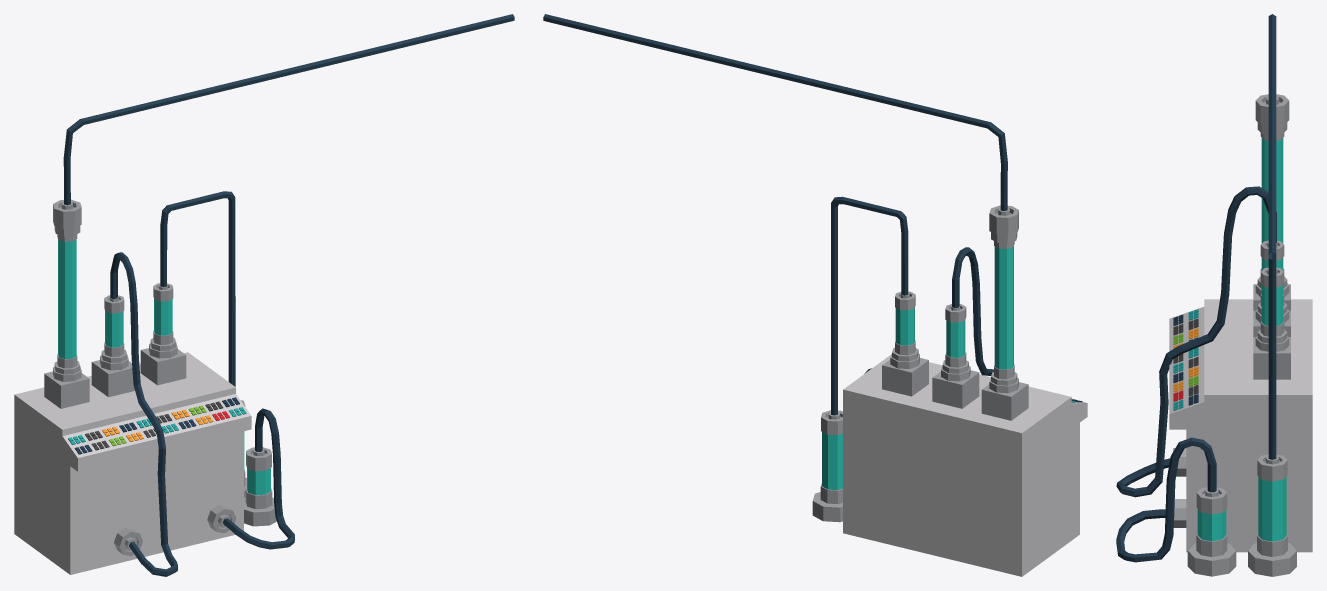
File: Machine1.fbx
3 views of the same model, side by side, from view 1: azimuth 30°, elevation 25°; view 2: azimuth 150°, elevation 25°; view 3: azimuth 270°, elevation 25° (orthographic). The views are drawn at different scales.
Parts seen in each view (by area): view 1: Cube.002_105, BezierCurve_101, BezierCurve.003_104, BezierCurve.001_102, Cylinder_109, BezierCurve.002_103, Cube.005_108, Cube.003_106, Cube.004_107, Cylinder.007_116, Cylinder.012_120, Cylinder.016_124; view 2: Cube.002_105, BezierCurve_101, BezierCurve.001_102, Cylinder_109, BezierCurve.003_104, Cube.003_106, Cube.004_107, Cube.005_108, Cylinder.018_126, Cylinder.007_116, Cylinder.016_124, Cylinder.012_120; view 3: Cube.002_105, BezierCurve.003_104, BezierCurve.002_103, BezierCurve_101, BezierCurve.001_102, Cylinder.018_126, Cylinder_109, Cylinder.004_113, Cylinder.020_128, Cube.005_108, Cylinder.022_130, Cylinder.007_116 (+8 smaller).
Part boxes in pixels (x1,y1,x2,y2): Cube.002_105: [14, 352, 251, 574]; BezierCurve_101: [63, 14, 514, 205]; BezierCurve.003_104: [110, 252, 177, 576]; BezierCurve.001_102: [160, 191, 235, 386]; Cylinder_109: [58, 239, 76, 358]; BezierCurve.002_103: [222, 408, 294, 549]; Cube.005_108: [140, 348, 186, 385]; Cube.003_106: [44, 371, 89, 408]; Cube.004_107: [91, 360, 134, 397]; Cylinder.007_116: [53, 199, 81, 228]; Cylinder.012_120: [105, 311, 123, 347]; Cylinder.016_124: [154, 299, 172, 335]; Cube.002_105: [843, 354, 1087, 576]; BezierCurve_101: [543, 14, 1007, 210]; BezierCurve.001_102: [831, 196, 908, 415]; Cylinder_109: [994, 246, 1013, 369]; BezierCurve.003_104: [952, 247, 993, 375]; Cube.003_106: [981, 382, 1028, 420]; Cube.004_107: [932, 370, 979, 408]; Cube.005_108: [882, 358, 928, 396]; Cylinder.018_126: [822, 432, 842, 489]; Cylinder.007_116: [989, 205, 1018, 235]; Cylinder.016_124: [895, 308, 914, 345]; Cylinder.012_120: [946, 320, 965, 357]; Cube.002_105: [1169, 299, 1312, 552]; BezierCurve.003_104: [1116, 186, 1276, 497]; BezierCurve.002_103: [1116, 437, 1216, 562]; BezierCurve_101: [1268, 14, 1276, 259]; BezierCurve.001_102: [1268, 258, 1276, 459]; Cylinder.018_126: [1258, 476, 1286, 541]; Cylinder_109: [1261, 138, 1283, 243]; Cylinder.004_113: [1248, 543, 1296, 576]; Cylinder.020_128: [1187, 543, 1236, 576]; Cube.005_108: [1253, 337, 1290, 379]; Cylinder.022_130: [1197, 509, 1226, 541]; Cylinder.007_116: [1255, 94, 1289, 126].
Size of the model in its own units: 213 by 176 by 66.74.
